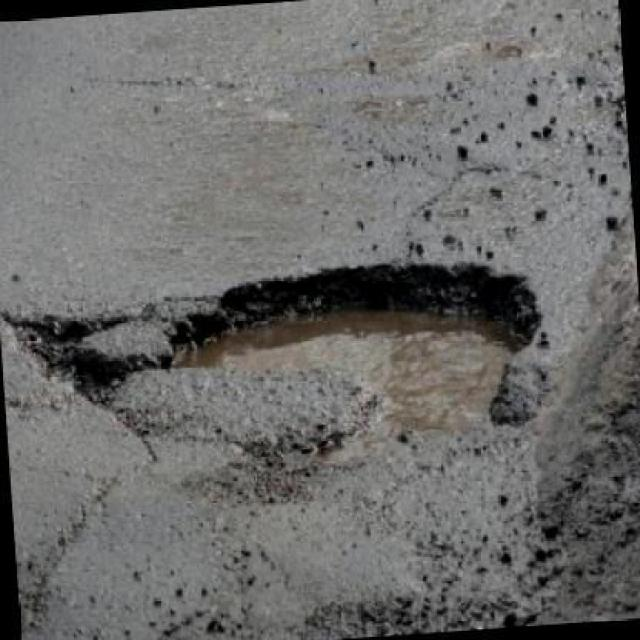pothole: (0, 263, 540, 434)
